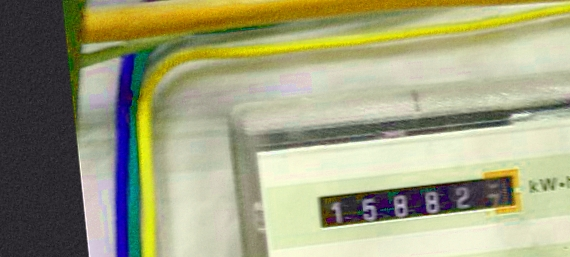1: (329, 199, 345, 226)
2: (454, 183, 473, 211)
5: (360, 196, 378, 222)
7: (486, 190, 501, 207)
8: (422, 187, 441, 214), (391, 193, 410, 218)
screen: (303, 160, 534, 243)
